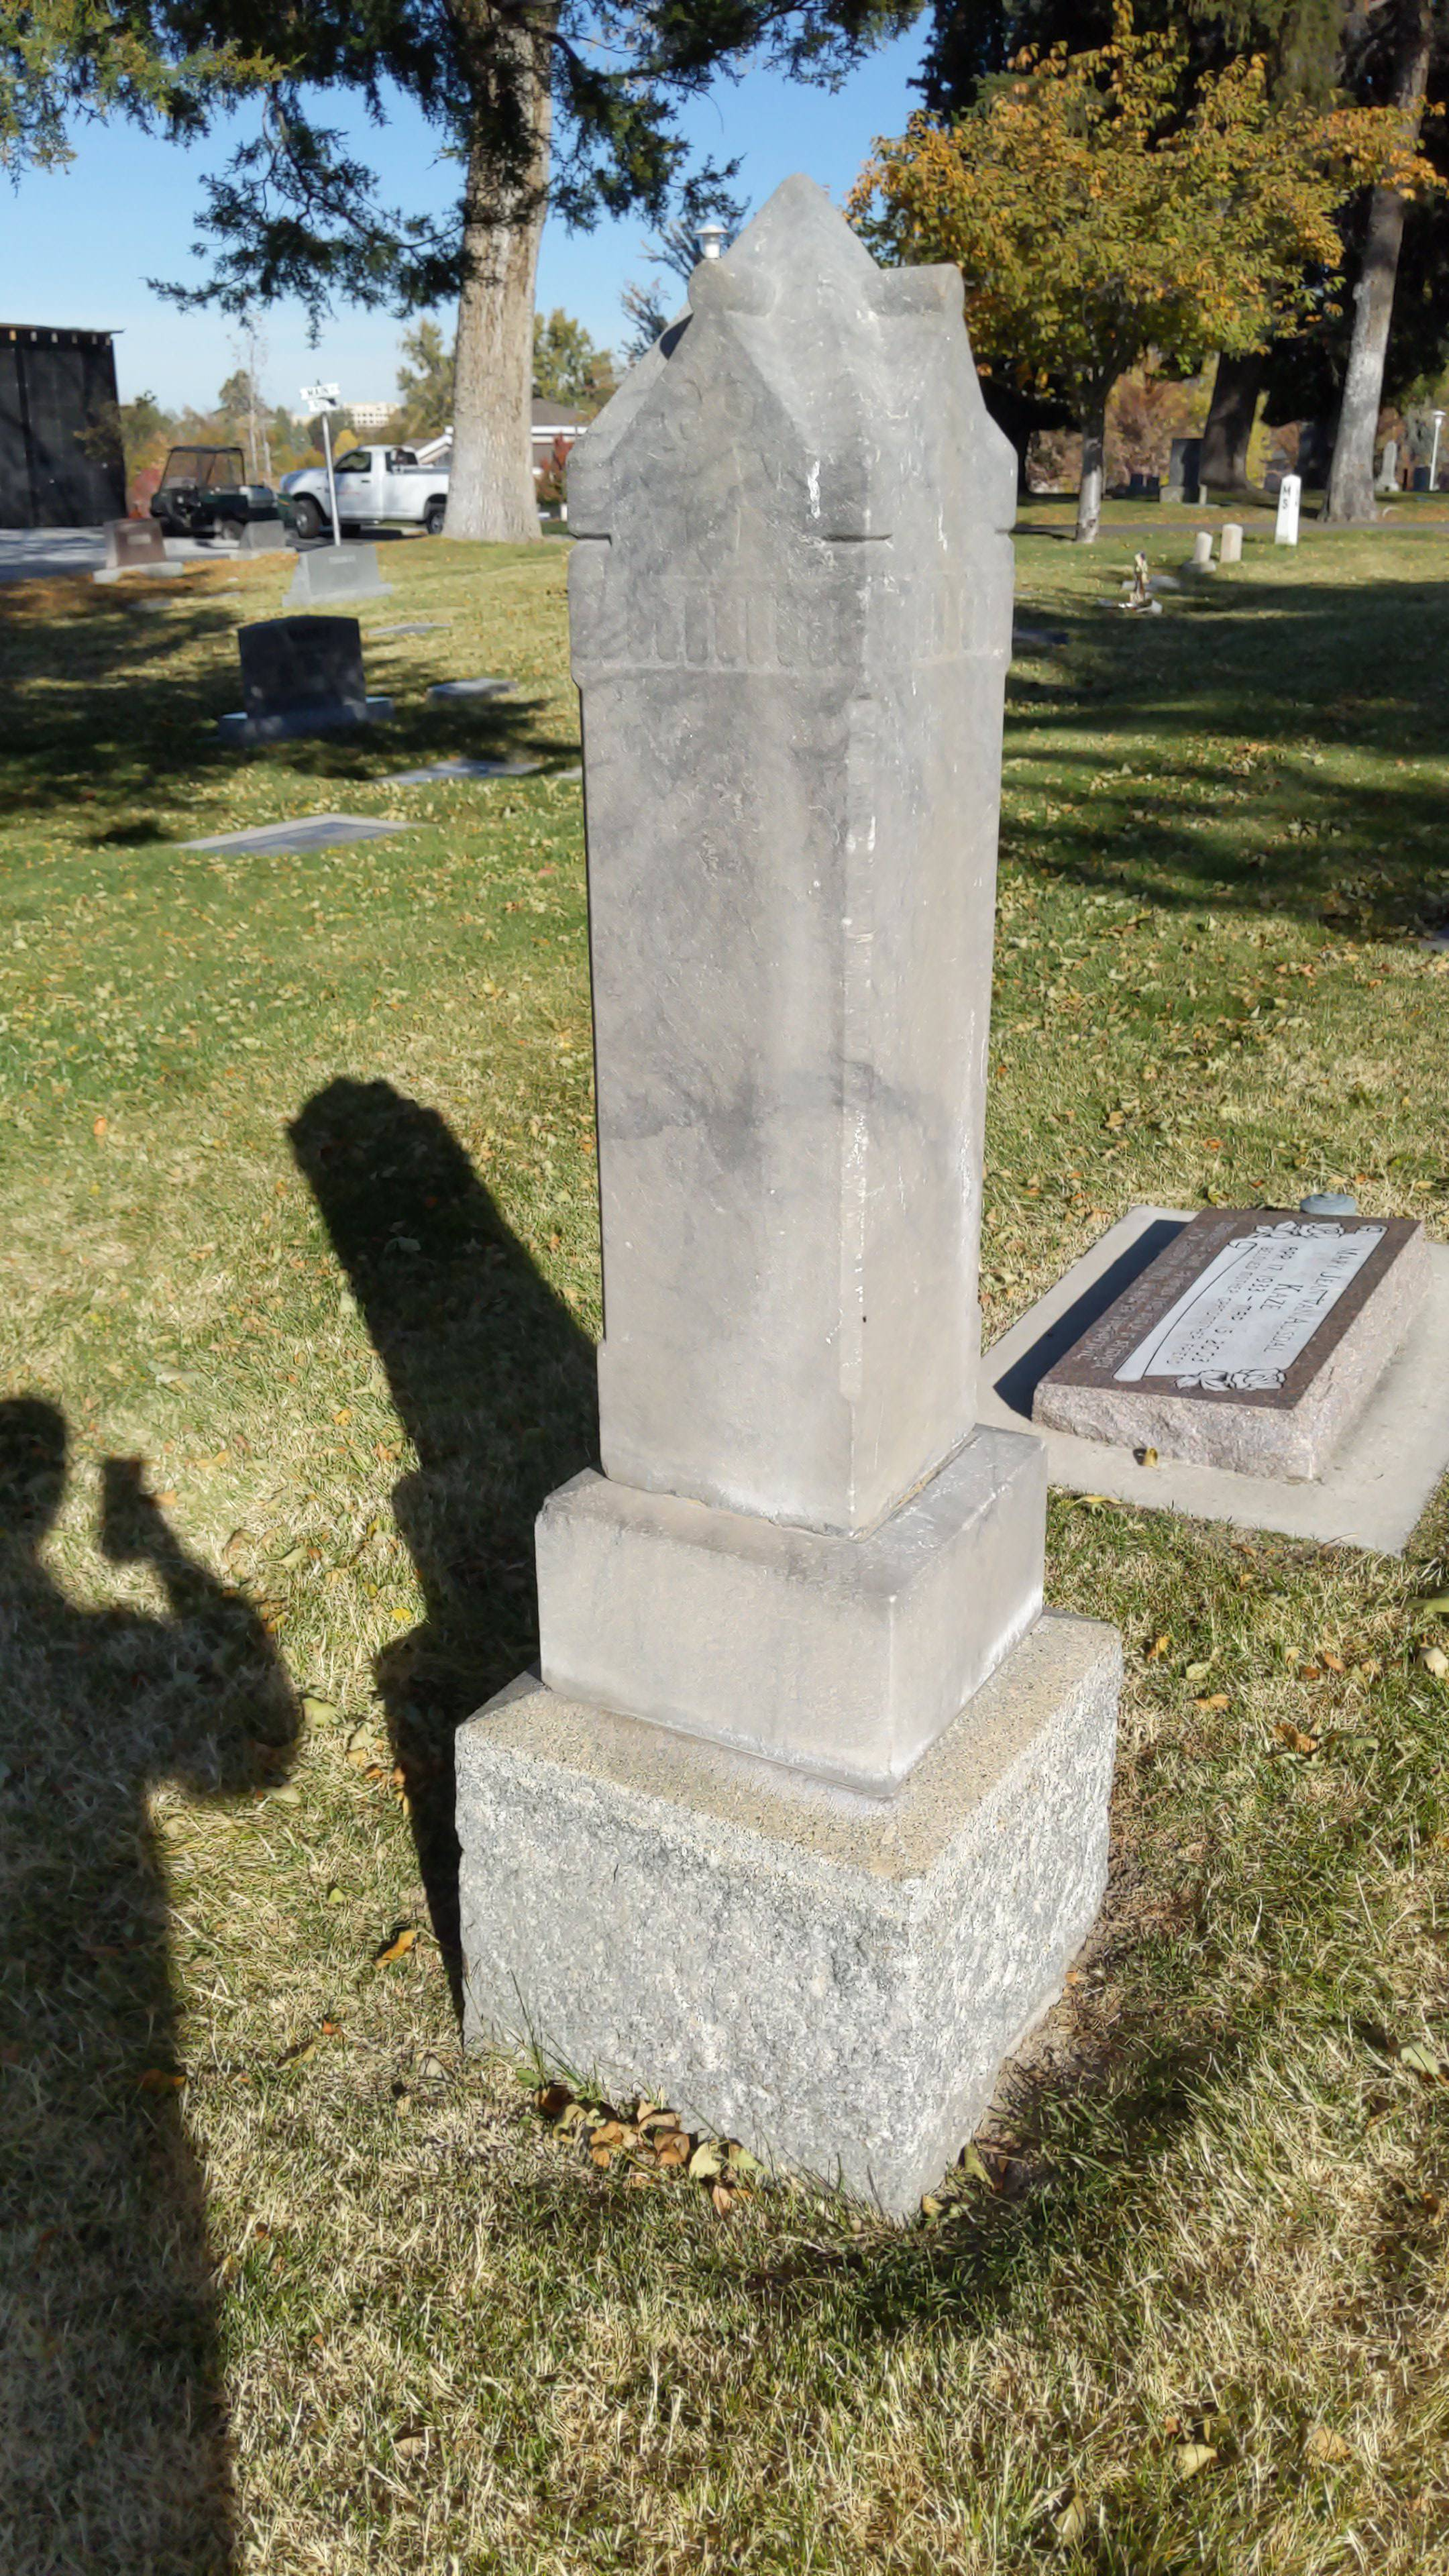obelisk: (533, 193, 1046, 1794)
